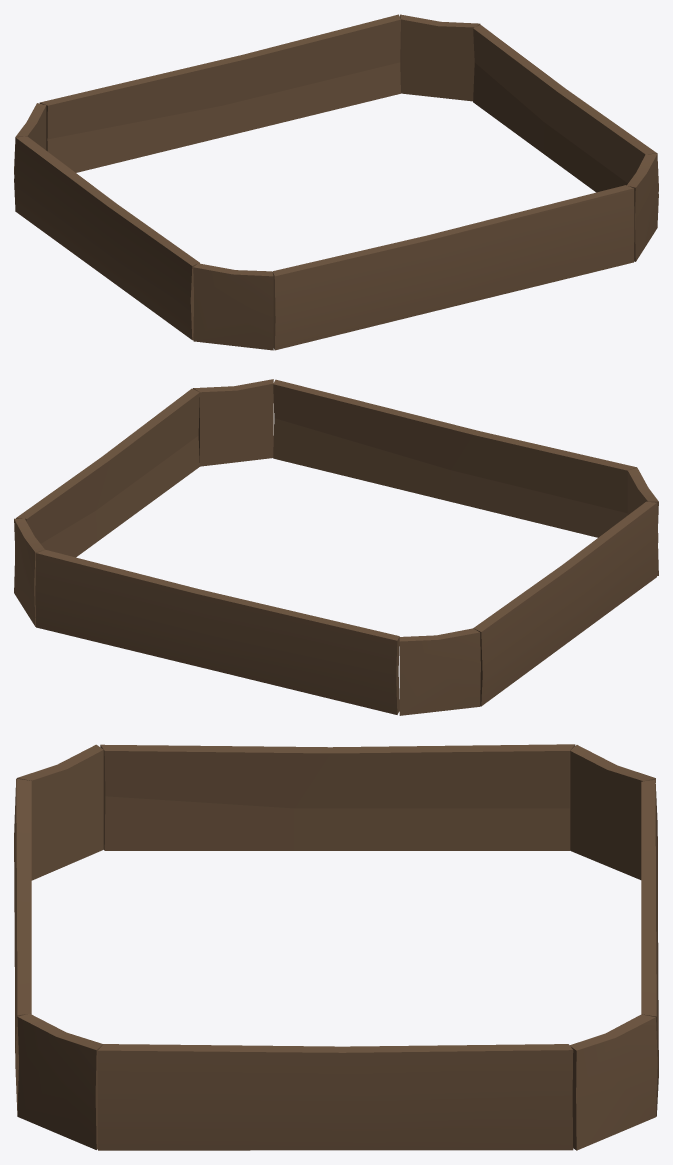
The model's file is octagon_patch.FBX.
3 renders of one model, top to bottom at view 1: azimuth 30°, elevation 25°; view 2: azimuth 150°, elevation 25°; view 3: azimuth 270°, elevation 25°, orthographic. The views are drawn at different scales.
Visible parts, largest first — view 1: Octagon_Beet; view 2: Octagon_Beet; view 3: Octagon_Beet.
Part boxes in pixels (x1=…): Octagon_Beet: x1=14, y1=14, x2=658, y2=350; Octagon_Beet: x1=14, y1=379, x2=658, y2=715; Octagon_Beet: x1=14, y1=744, x2=658, y2=1150.
Bounding box in the file's own units: 144 × 21.73 × 127.
